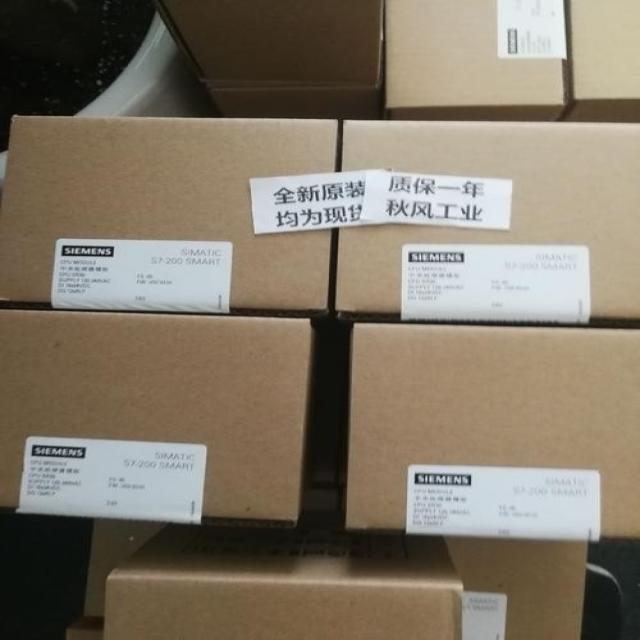box: (0, 309, 316, 526), (0, 115, 338, 314), (346, 324, 640, 540), (334, 119, 640, 321), (101, 525, 463, 640), (384, 0, 568, 119), (151, 0, 385, 87), (447, 539, 589, 640), (564, 0, 640, 122), (204, 83, 383, 118), (87, 518, 132, 621)
